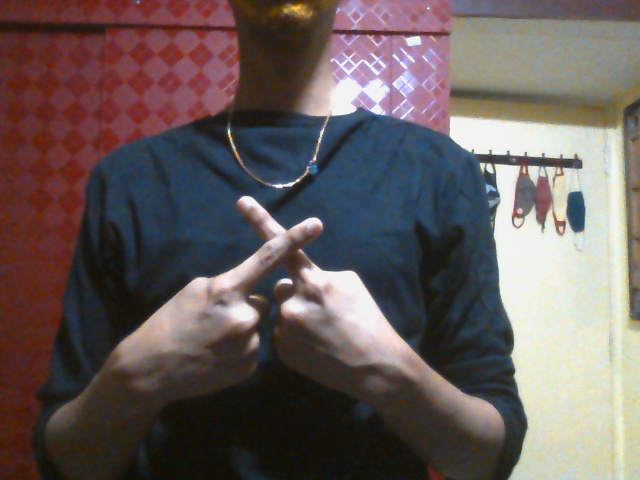X: (147, 196, 393, 410)
